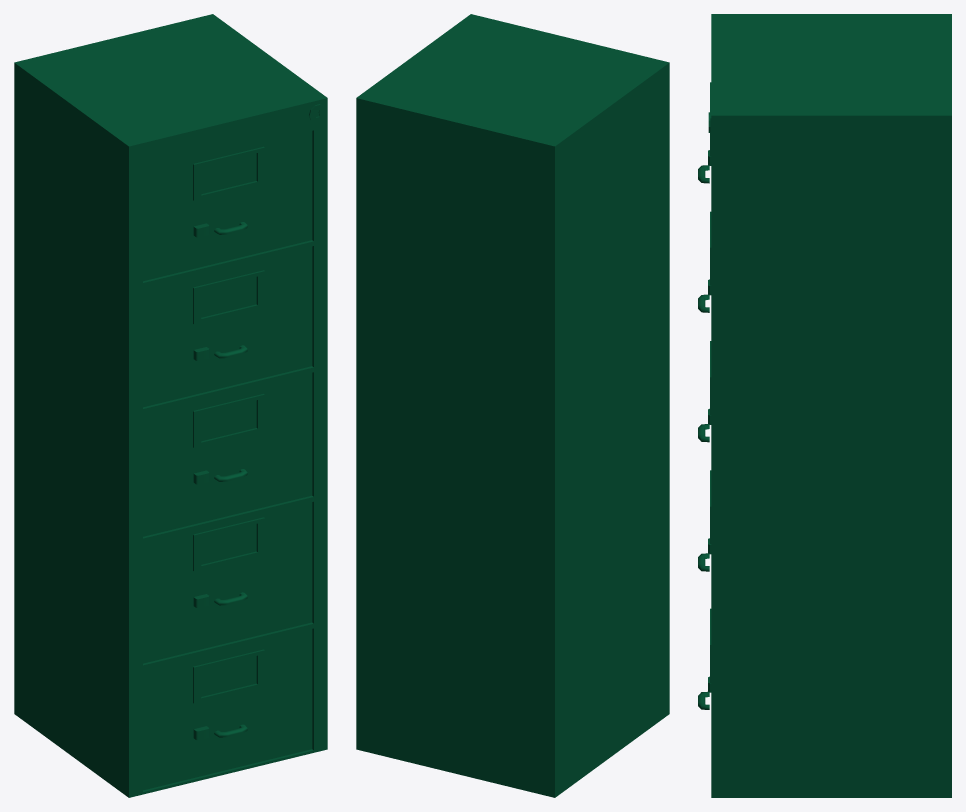
The model's file is tall.fbx.
3 views of the same model, side by side, from view 1: azimuth 30°, elevation 25°; view 2: azimuth 150°, elevation 25°; view 3: azimuth 270°, elevation 25° (orthographic). The views are drawn at different scales.
Parts seen in each view (by area): view 1: tall; view 2: tall; view 3: tall.
Part boxes in pixels (x1,y1,x2,y2): tall: (14,14,327,797); tall: (356,14,669,797); tall: (698,14,951,797).
Size of the model in its own units: 49.41 by 155 by 52.14.
